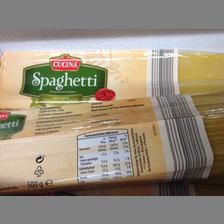Nudeln: (0, 92, 224, 192), (0, 50, 222, 106)
